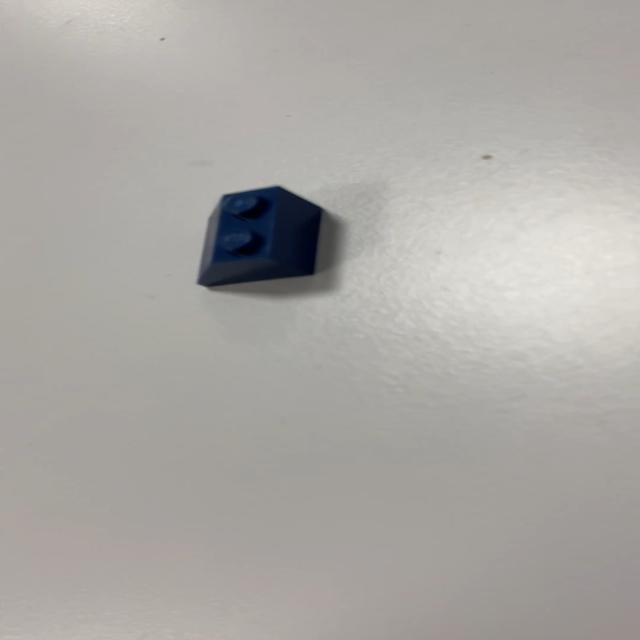P2x2x1: (195, 184, 324, 287)
